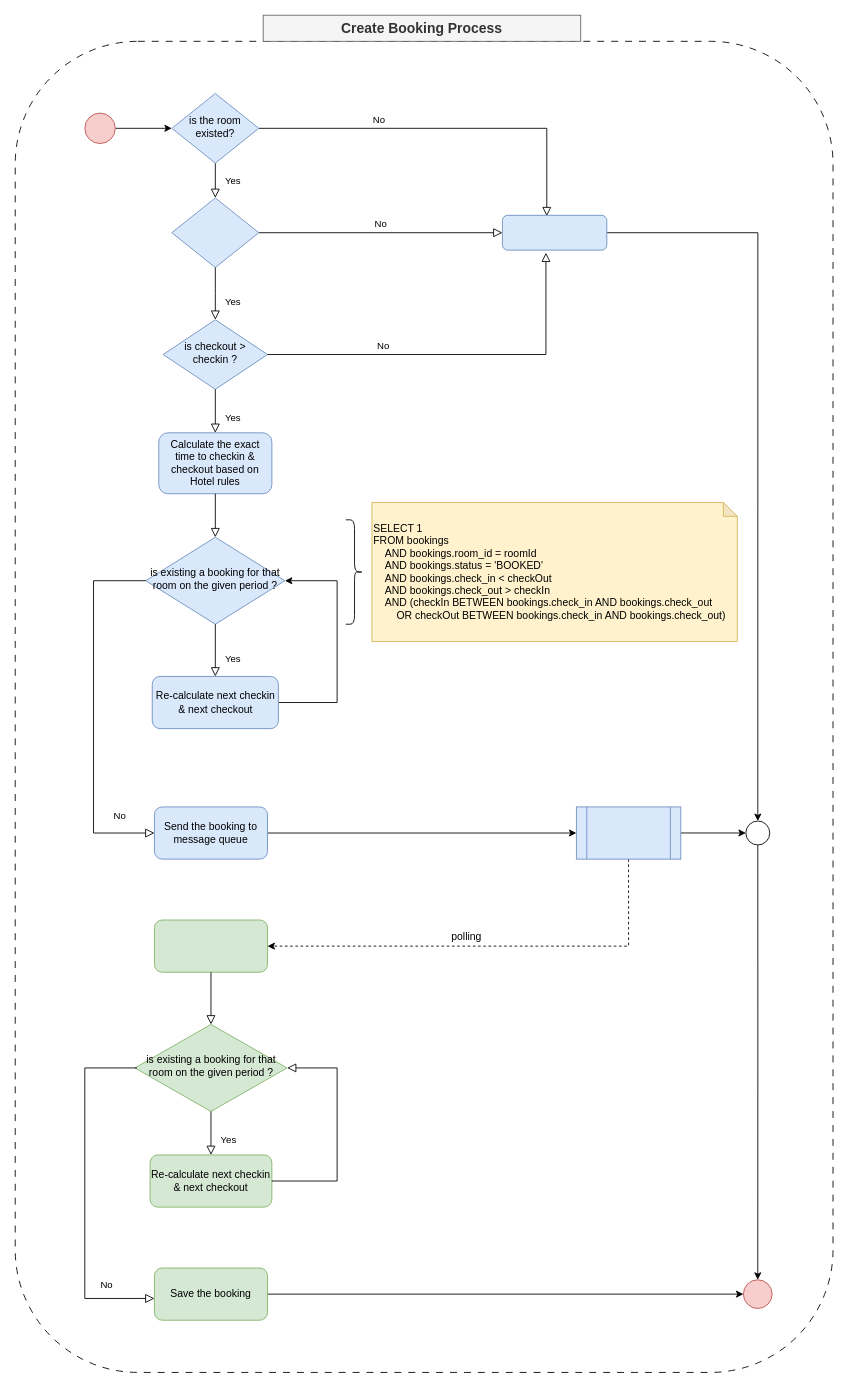
The diagram is 848 pixels wide and 1388 high, and some of its shapes have lost their labels. Here are the shapes that lost their labels. From the top down, the centre of each, then its label:
At (x=99, y=128): "Start".
At (x=215, y=232): "is the user existed?".
At (x=554, y=232): "Throw Exception".
At (x=628, y=832): "Booking queue".
At (x=211, y=945): "Booking Consumer".
At (x=757, y=1293): "End".
